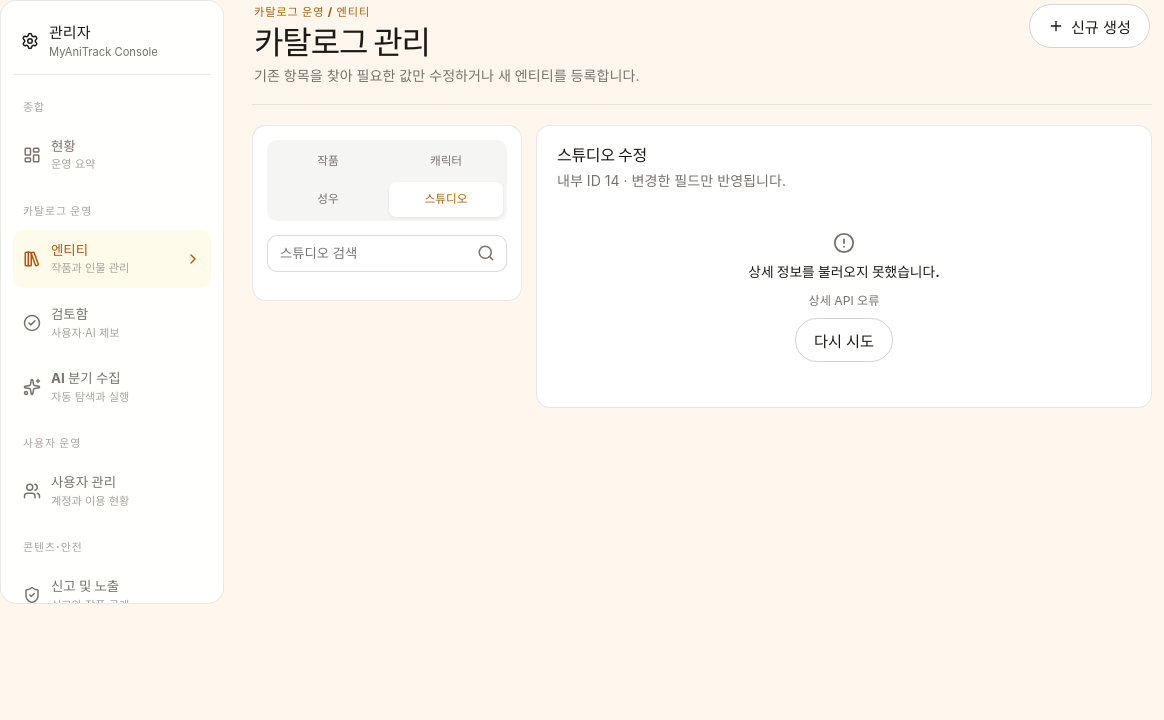
Test: admin console › shows an isolated detail error and retries without retaining stale form values
Check: the text "상세 API 오류" is shown, box 808,292 -> 880,310
Check: the field labelled "스튜디오명" is not shown
Click the button "다시 시도". click: (844, 340)
box: 795,318 -> 893,362
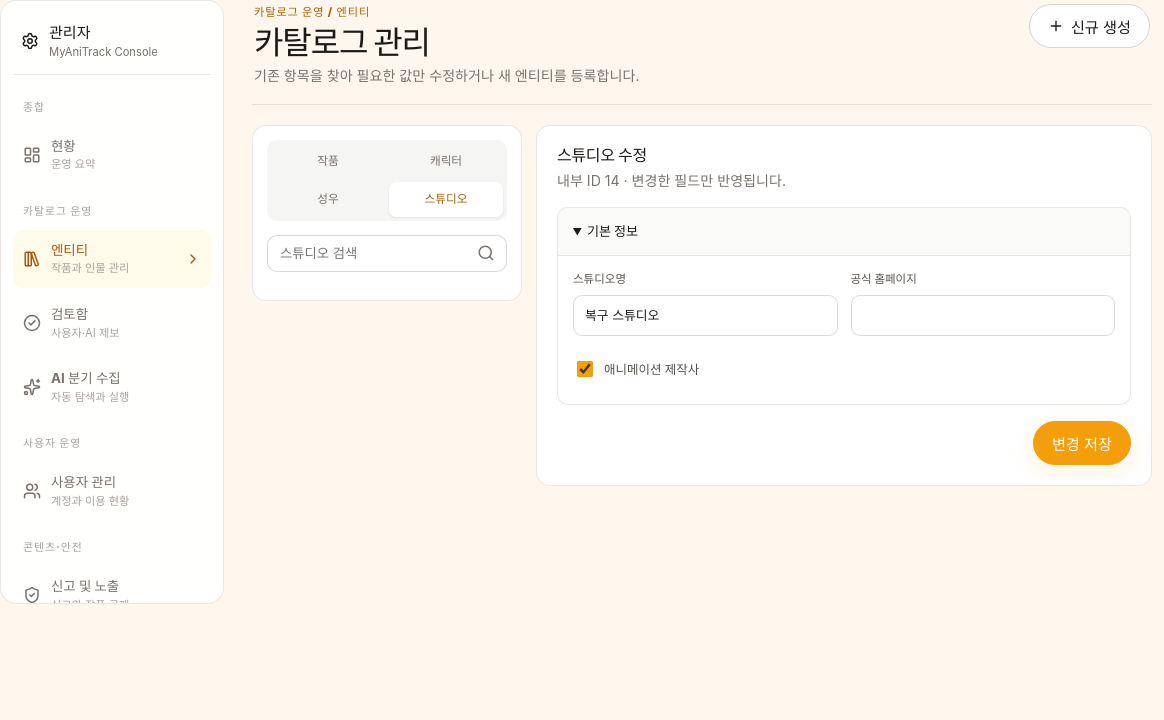
Check: the field showing "복구 스튜디오" is shown, box 573,294 -> 838,336
